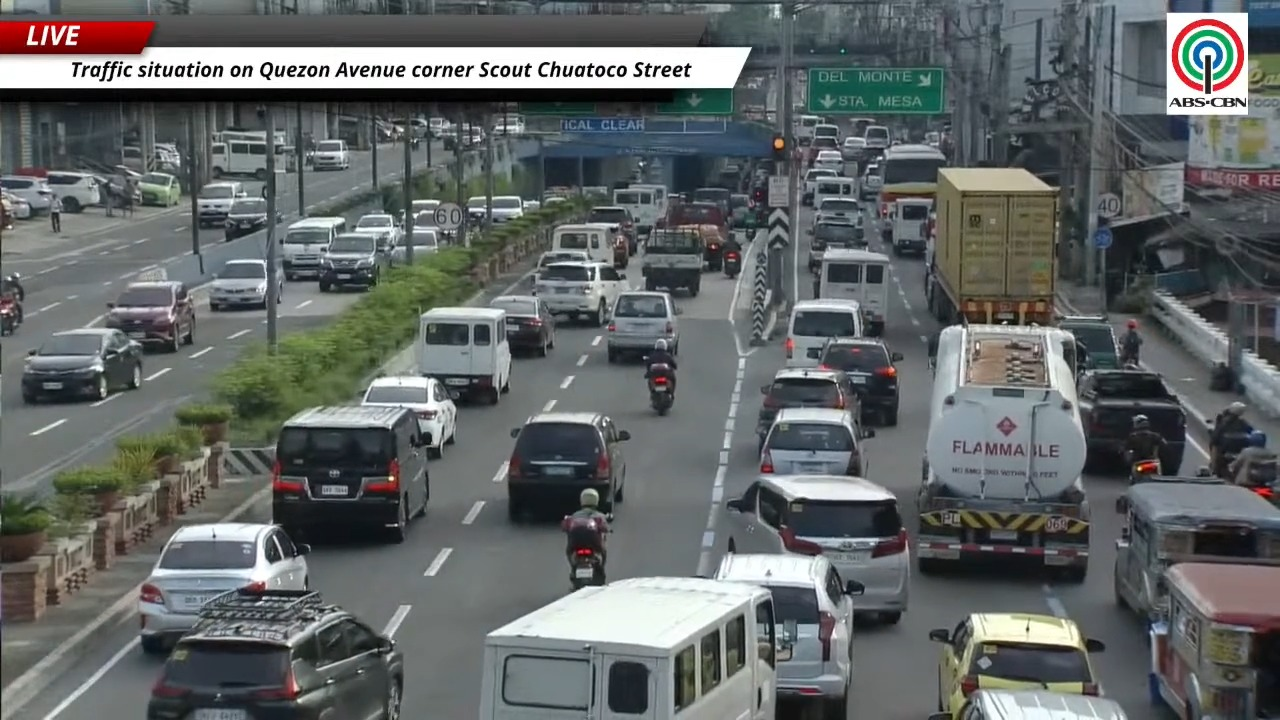bus: (878, 144, 947, 217), (210, 140, 266, 180)
car: (146, 589, 404, 719), (726, 475, 910, 623), (713, 553, 862, 719), (137, 522, 309, 653), (271, 405, 429, 543), (929, 613, 1104, 719), (506, 412, 630, 521), (21, 328, 142, 403), (756, 368, 859, 449), (361, 376, 457, 458), (759, 407, 873, 475), (819, 338, 902, 426), (104, 280, 195, 352), (535, 262, 626, 326), (607, 290, 680, 362), (960, 689, 1127, 719), (318, 234, 389, 291), (489, 295, 554, 356), (1057, 316, 1120, 368), (208, 258, 268, 311), (807, 218, 866, 271), (584, 207, 637, 254), (45, 171, 100, 212), (196, 182, 246, 227), (532, 250, 590, 285), (0, 176, 52, 213), (390, 225, 439, 264), (351, 213, 402, 246), (466, 196, 523, 223), (137, 172, 180, 207), (813, 197, 861, 226), (801, 168, 837, 205), (311, 139, 350, 169), (859, 162, 882, 200), (0, 192, 32, 219), (813, 150, 843, 173), (841, 137, 865, 160), (524, 201, 540, 213), (276, 210, 283, 224)
motorcycle: (569, 523, 605, 590), (570, 548, 604, 590), (647, 363, 673, 415), (1129, 459, 1162, 485), (1129, 459, 1161, 485), (0, 297, 19, 335), (3, 273, 25, 302), (704, 242, 722, 271), (723, 250, 740, 278), (1119, 348, 1140, 366)
truck: (914, 325, 1090, 582), (926, 168, 1058, 324), (642, 226, 704, 296)
